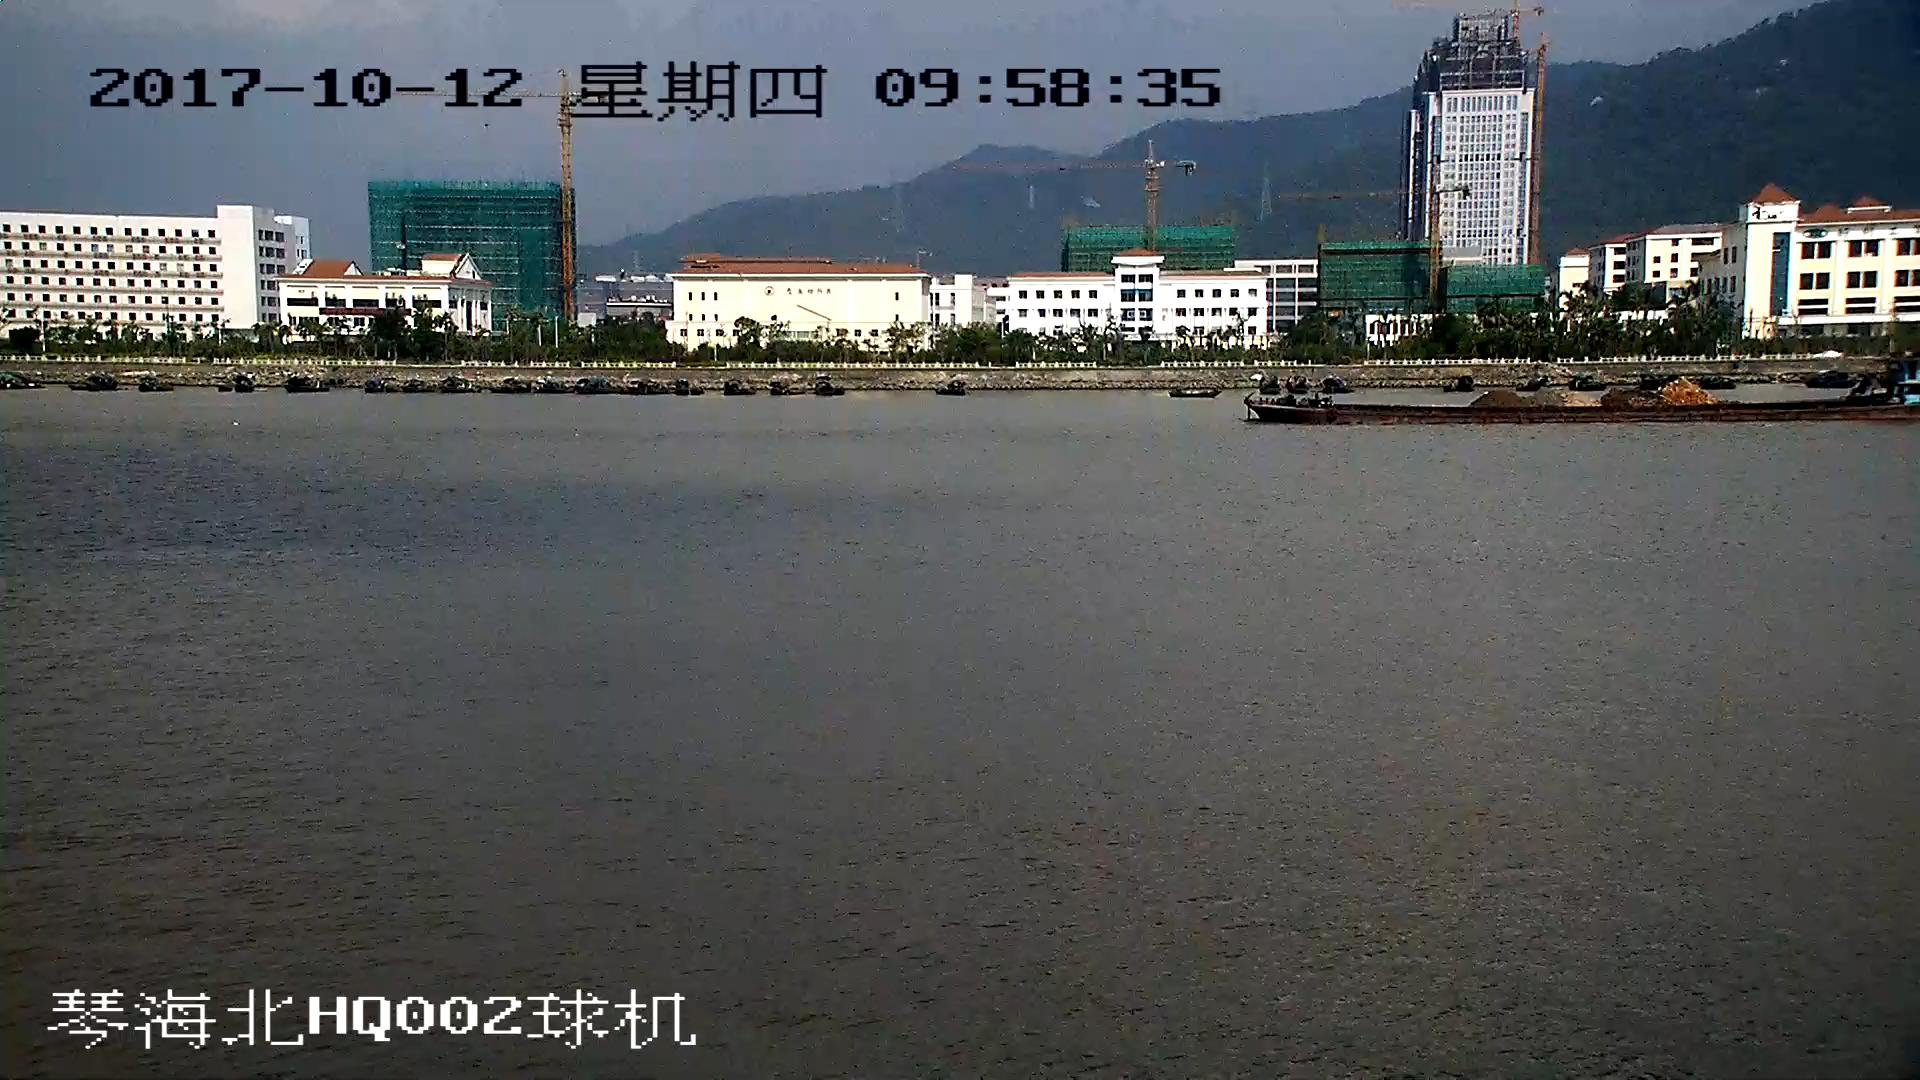ore carrier: (1249, 377, 1920, 424)
